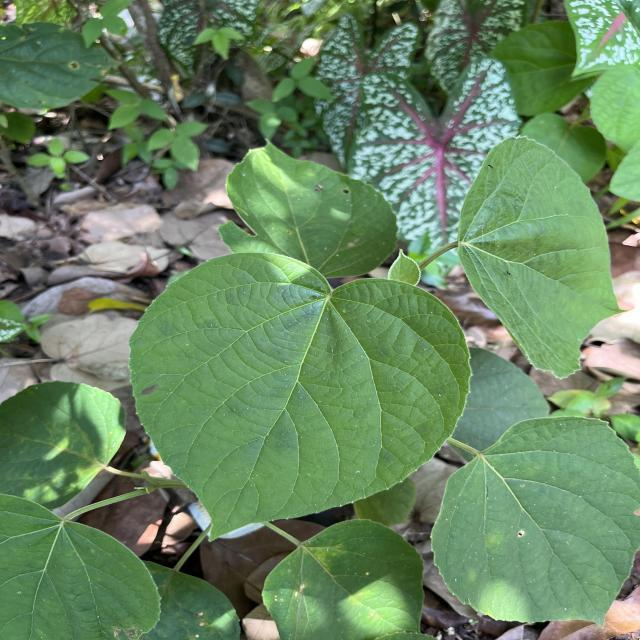Clerodendrum infortunatum: (127, 251, 474, 544), (428, 414, 640, 631), (456, 134, 640, 381), (220, 137, 402, 280)
